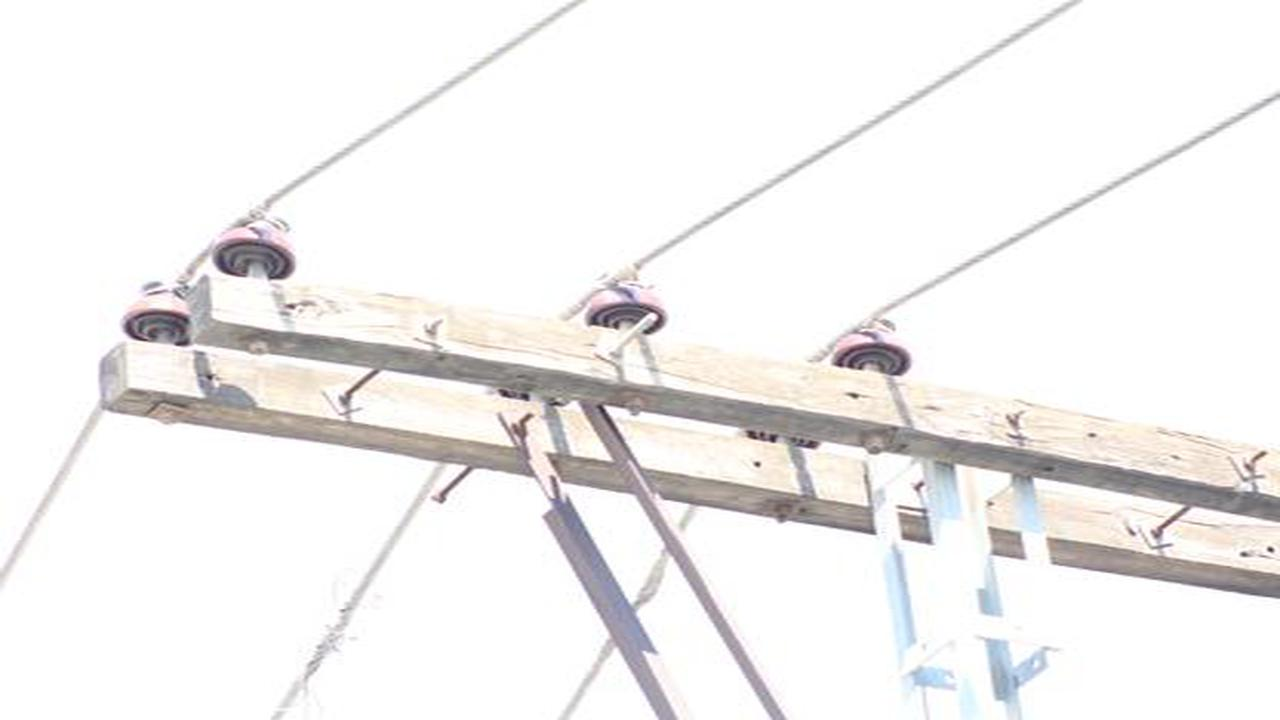insulator_pin: (209, 204, 300, 283), (582, 264, 672, 336), (825, 311, 916, 377), (120, 274, 191, 341)
